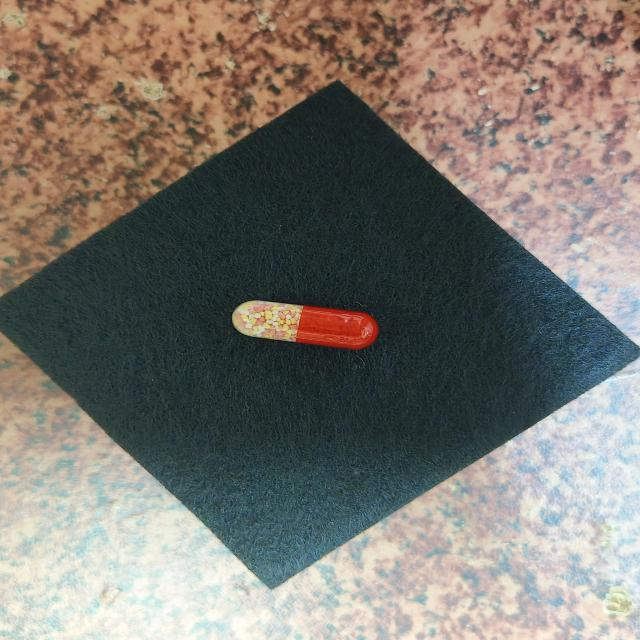Intact Capsule: (232, 300, 379, 350)
